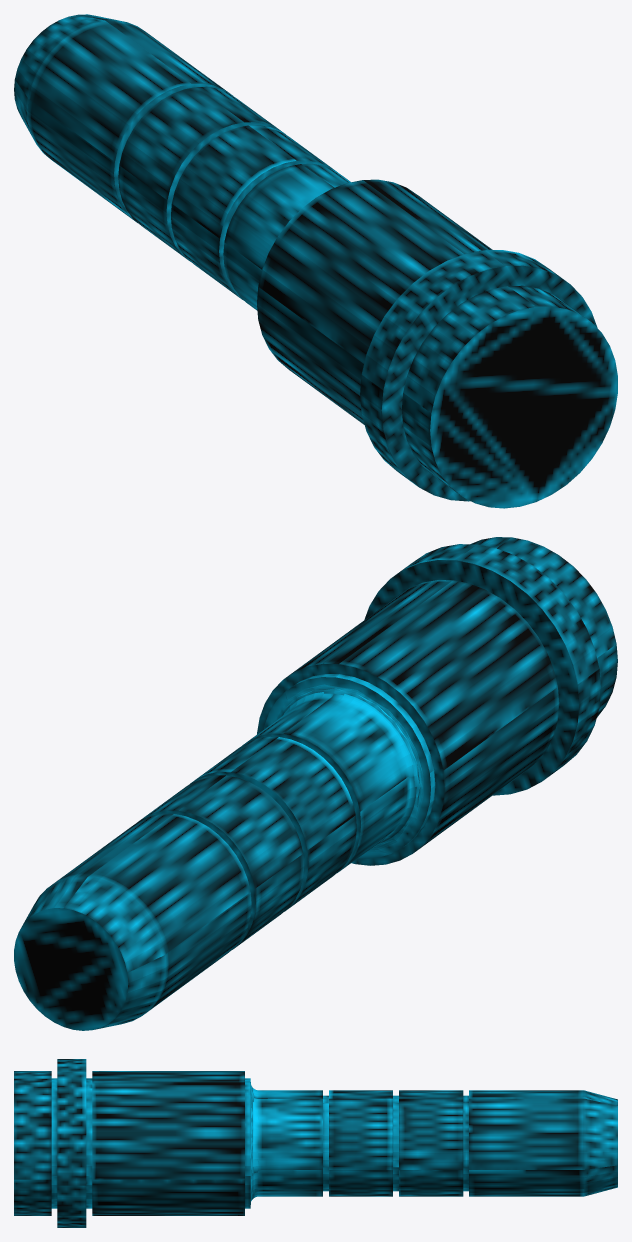
File: Mold1-Guide pillar-M.glb
3 views of the same model, one above another, from view 1: azimuth 30°, elevation 25°; view 2: azimuth 150°, elevation 25°; view 3: azimuth 270°, elevation 25° (orthographic). The views are drawn at different scales.
Visible parts, largest first — view 1: colonne de guidage.001; view 2: colonne de guidage.001; view 3: colonne de guidage.001.
Part boxes in pixels (box(x1,y1,x2,y2)): colonne de guidage.001: box(14, 14, 617, 508); colonne de guidage.001: box(14, 537, 617, 1030); colonne de guidage.001: box(14, 1059, 617, 1227).
Bounding box in the file's own units: 0.8228 × 0.8235 × 2.94.
1 material, 1 textured.
